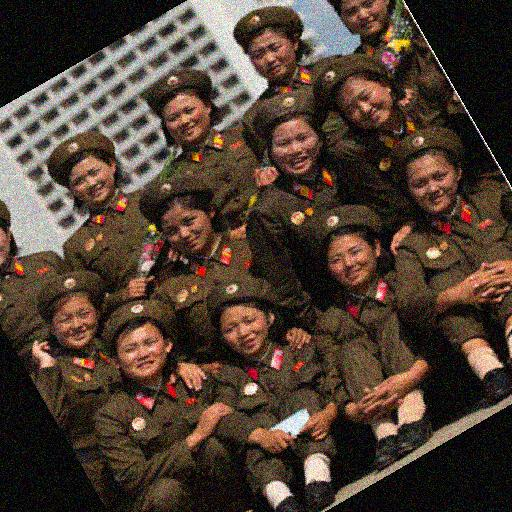north army: (20, 132, 503, 459)
